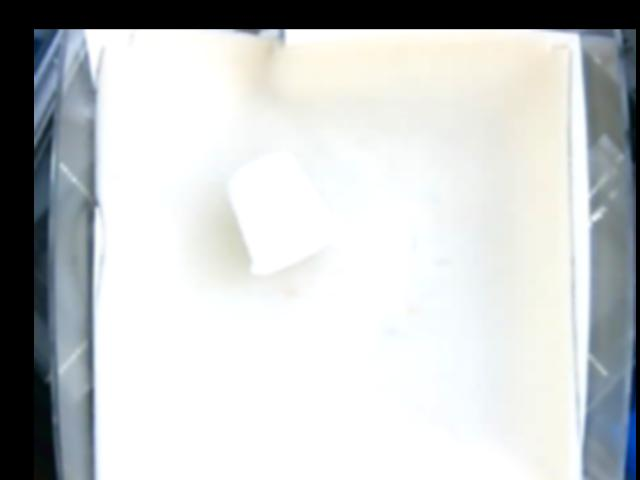Cup: (226, 152, 342, 273)
